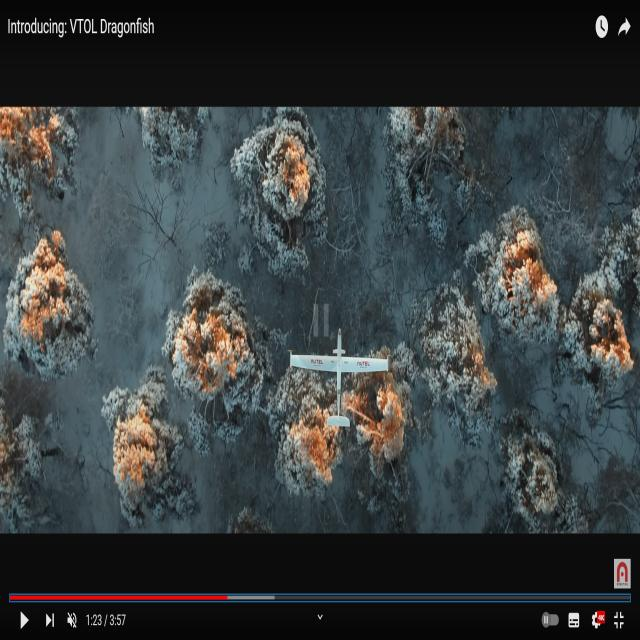iha: (324, 362, 358, 403)
